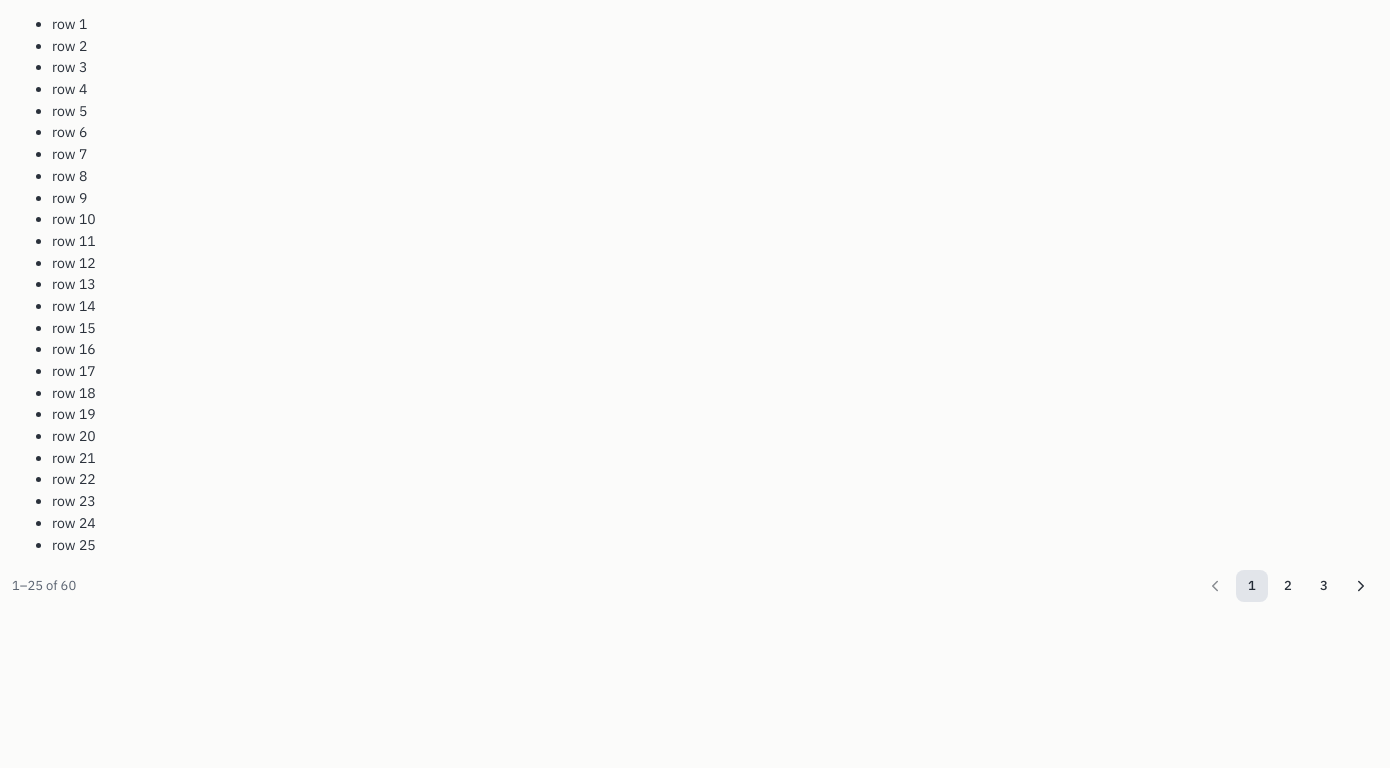
Test: pagination › pages 25 rows at a time with previous, numbers and next
Check: the text "1–25 of 60" is shown, box x1=12 y1=576 x2=76 y2=596
Check: the button named "Previous page" is disabled, box x1=1198 y1=570 x2=1232 y2=602
Step 1. Click the button named "Next page" → {"x": 1361, "y": 586}, box x1=1344 y1=570 x2=1378 y2=602
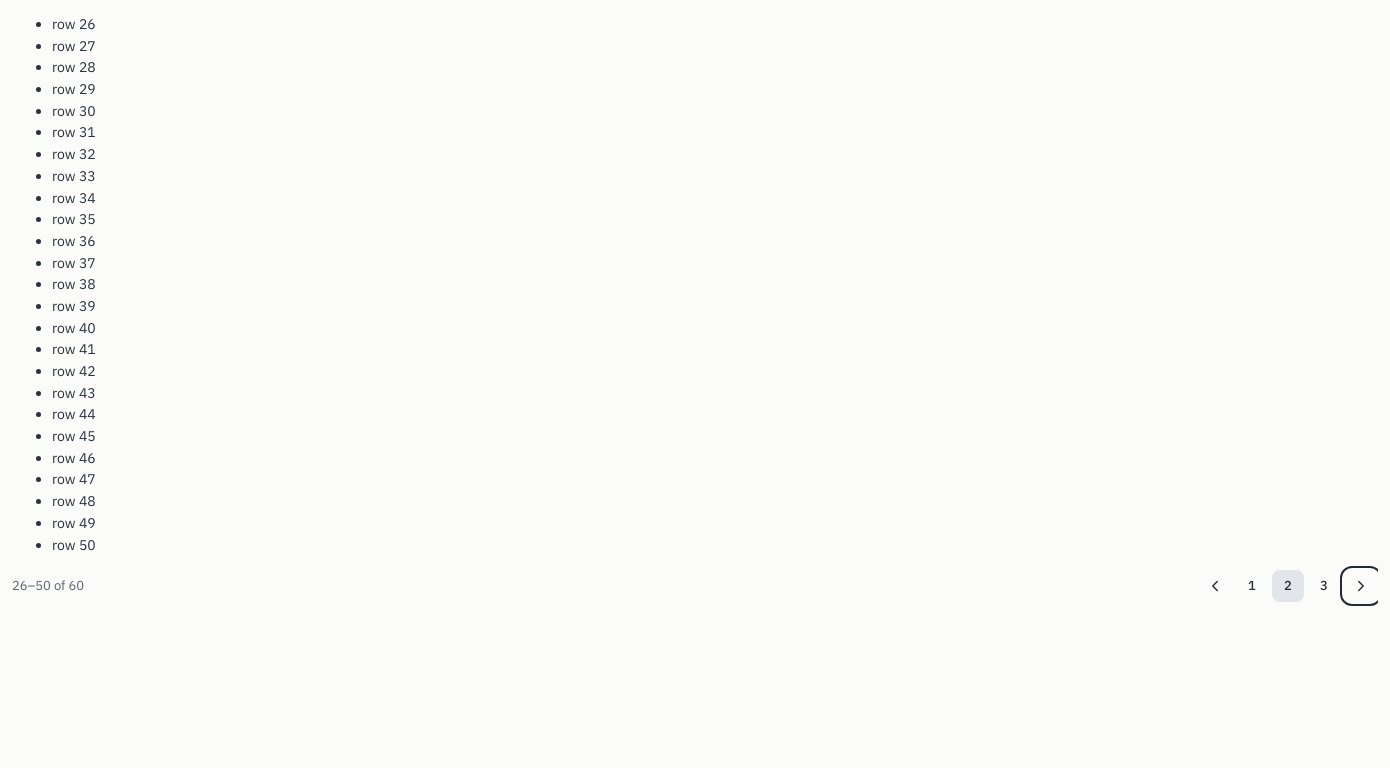
Check: the list item "row 26" is shown, box x1=52 y1=15 x2=96 y2=33
Step 2. Click the button named "Page 3" → {"x": 1324, "y": 586}, box x1=1308 y1=570 x2=1340 y2=602
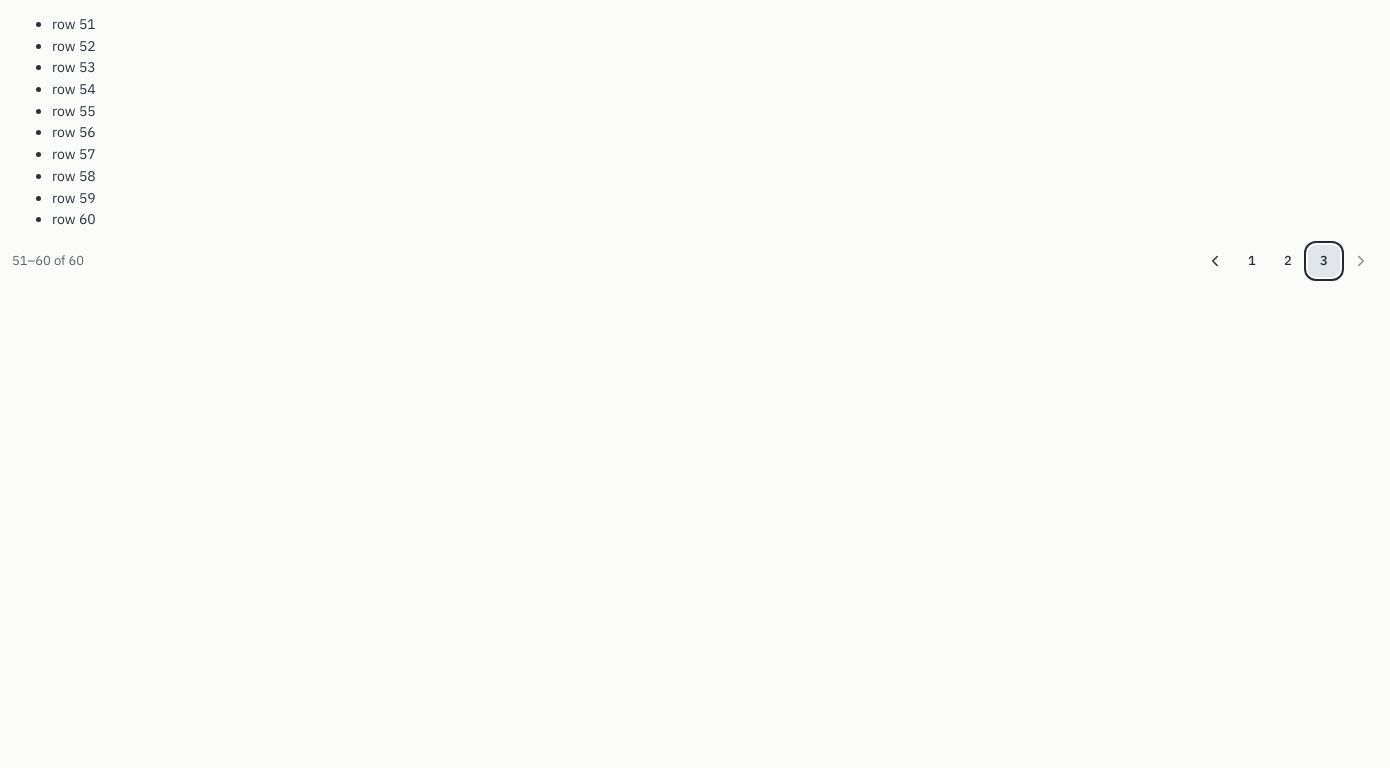
Check: the button named "Next page" is disabled, box x1=1344 y1=245 x2=1378 y2=277
Check: the text "51–60 of 60" is shown, box x1=12 y1=251 x2=84 y2=271
